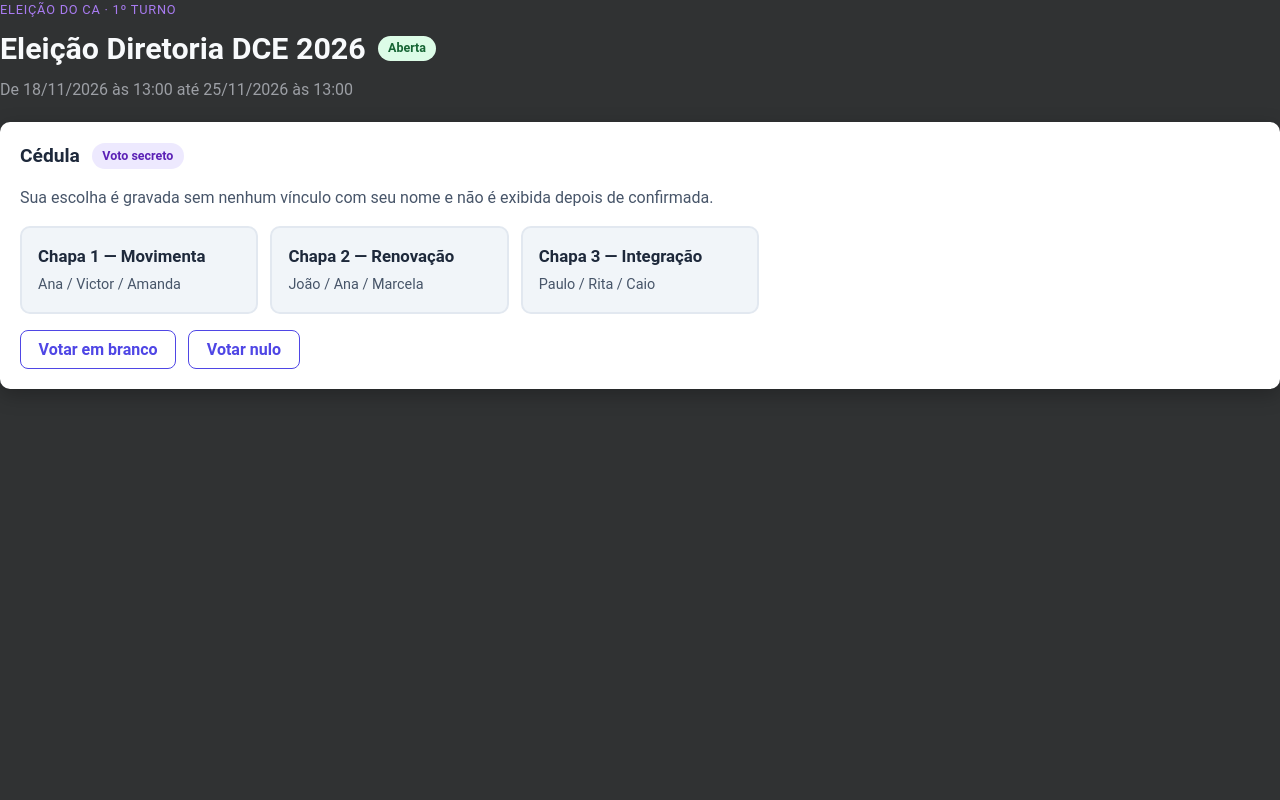
it: Votar: eleição do CA › Votar em branco envia branco sem opção
Click the button "Votar em branco": [98, 349] box [20,330,176,369]
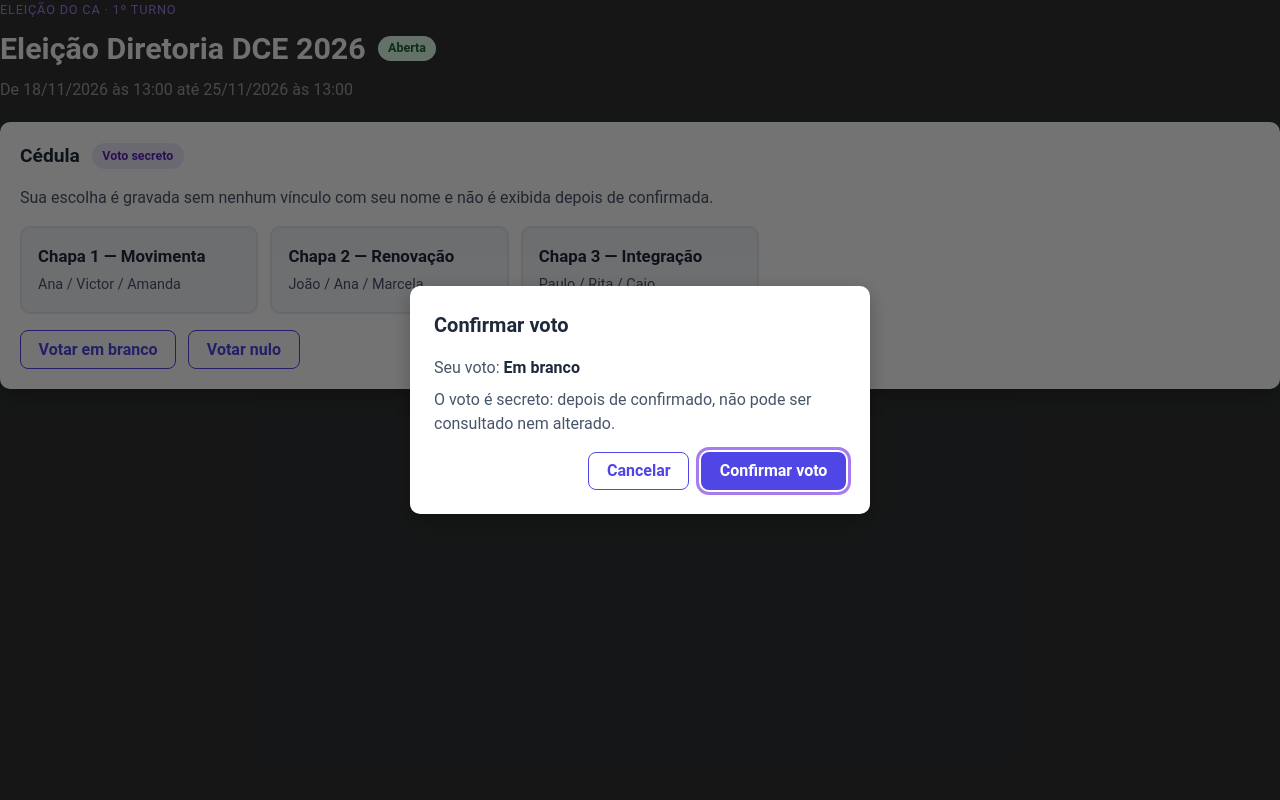
Click the button "Confirmar voto": [774, 471] box [701,452,846,490]
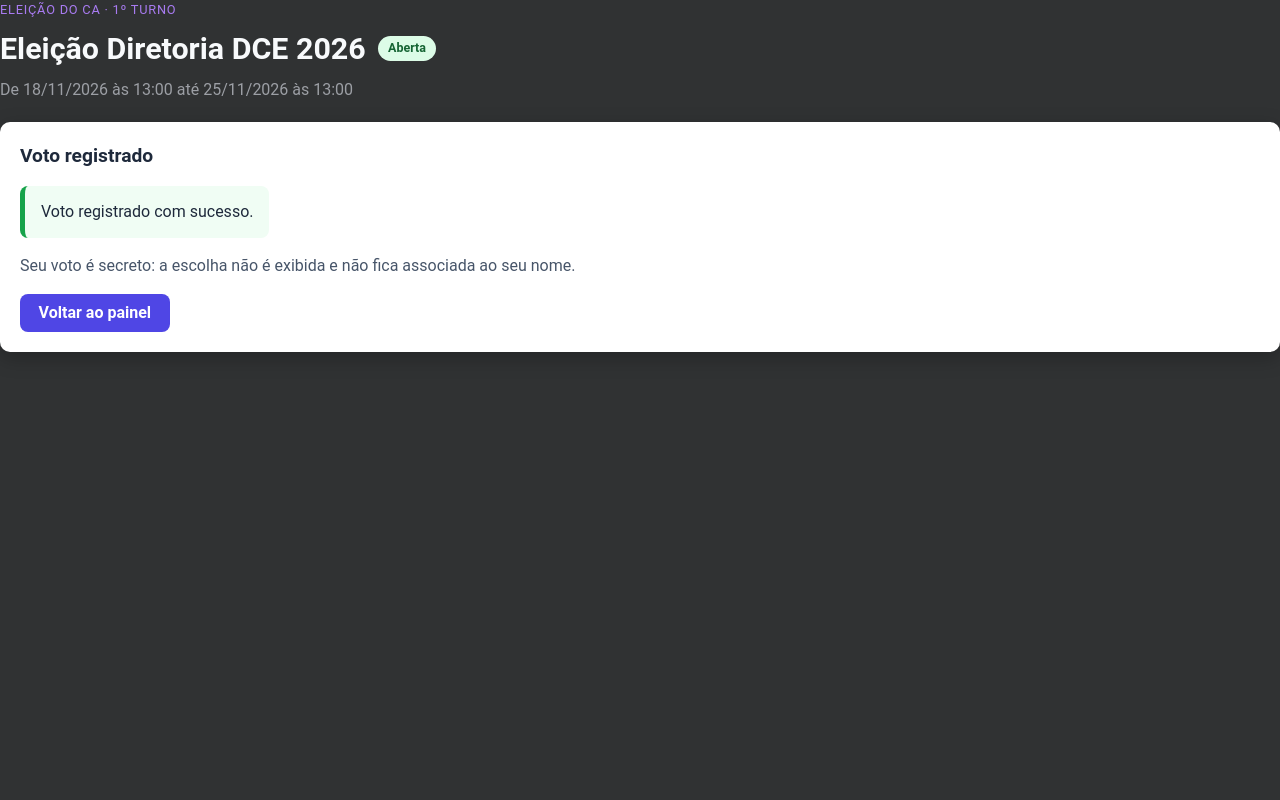
Now the heading "Voto registrado" is shown, box [20,142,153,170]
